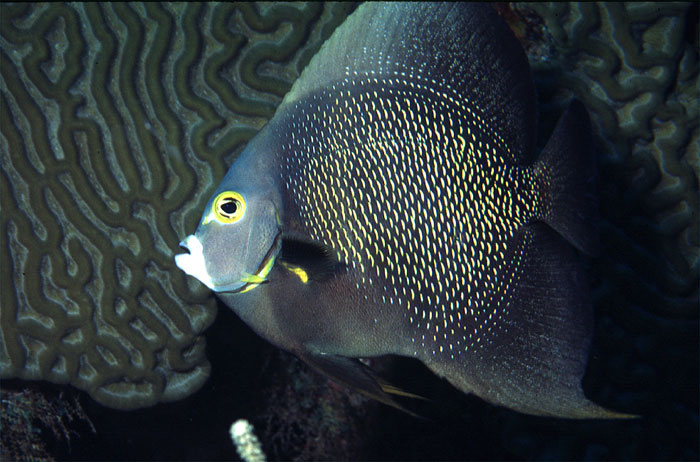Pomacanthus_paru: (173, 1, 669, 429)
